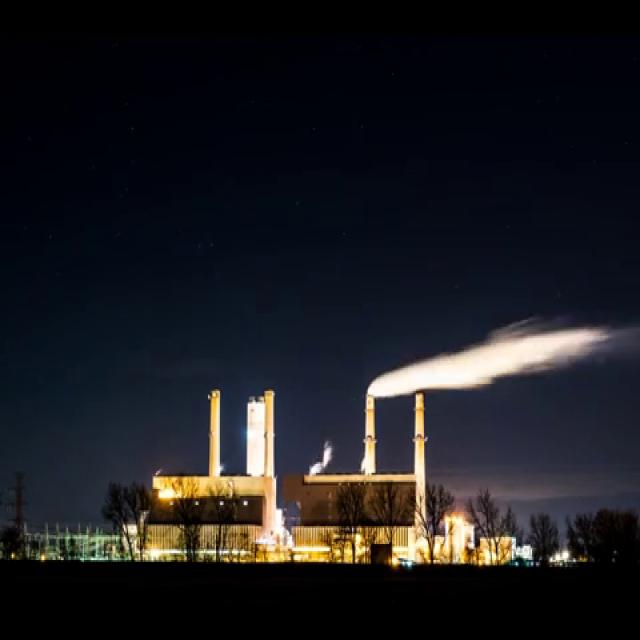smoke: (367, 325, 640, 404), (304, 443, 331, 482)
